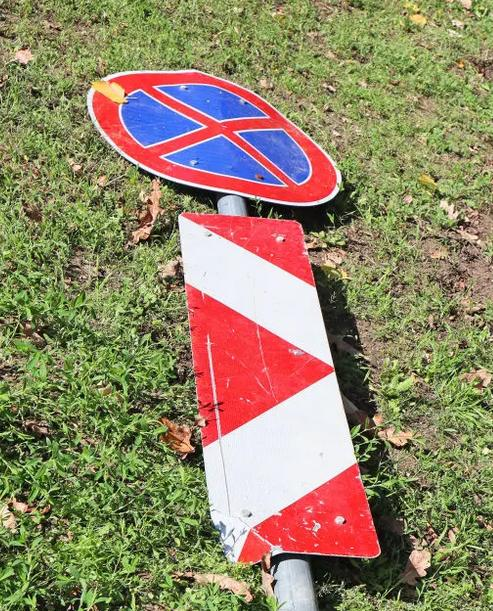obstructed_road_sign: (178, 212, 383, 569), (89, 71, 338, 205)
